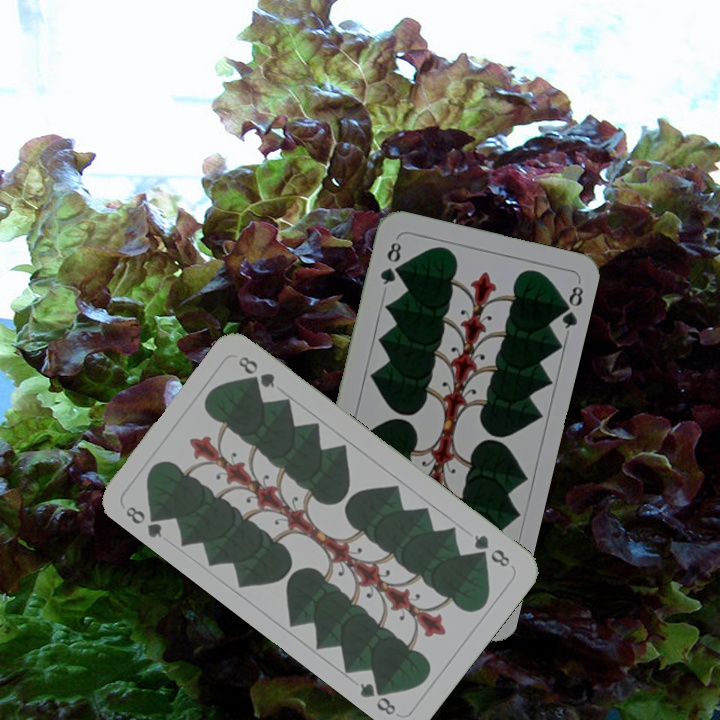G8: (469, 530, 513, 570), (121, 502, 167, 540), (376, 237, 404, 288)
